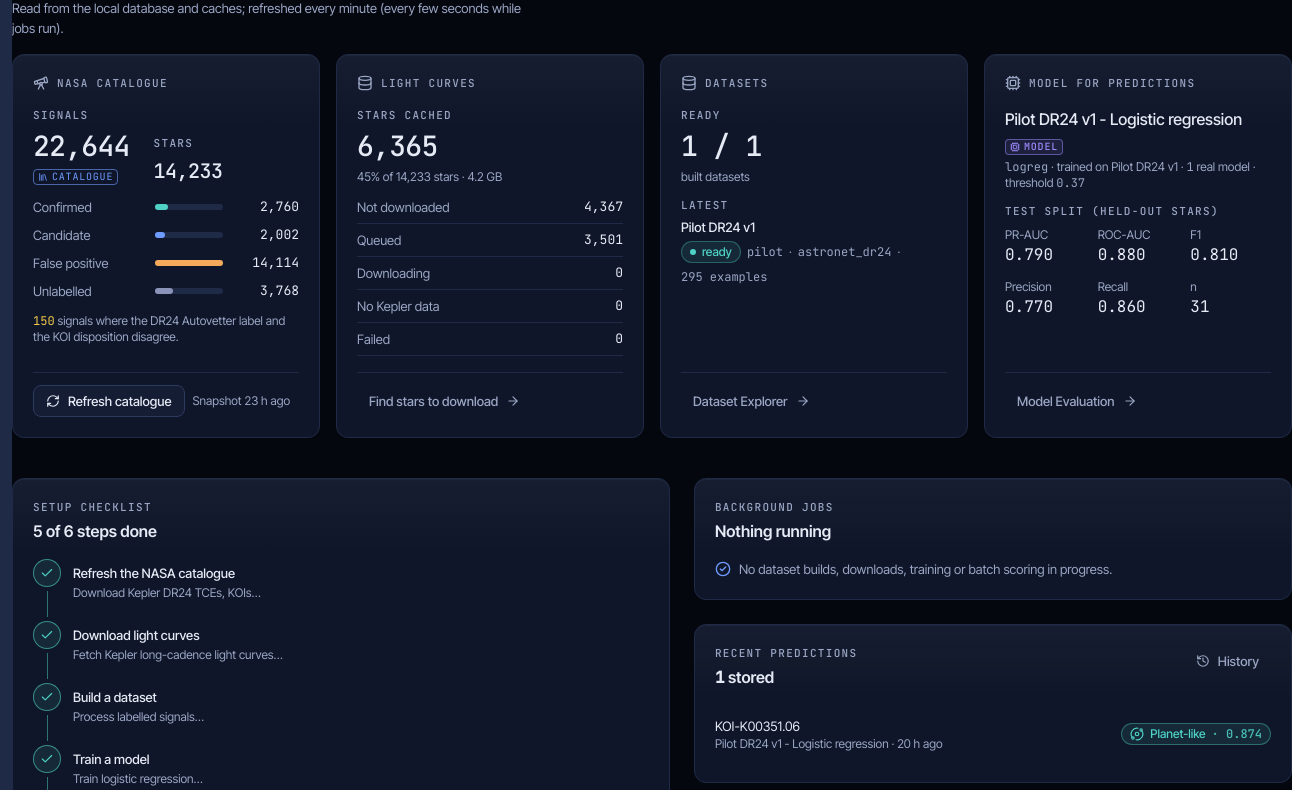
Test: Overview › starts a catalogue refresh and follows the job until it finishes
(page scrolled)
Step 1. Click the button "Refresh catalogue" → (109, 400), box [33,384,184,416]
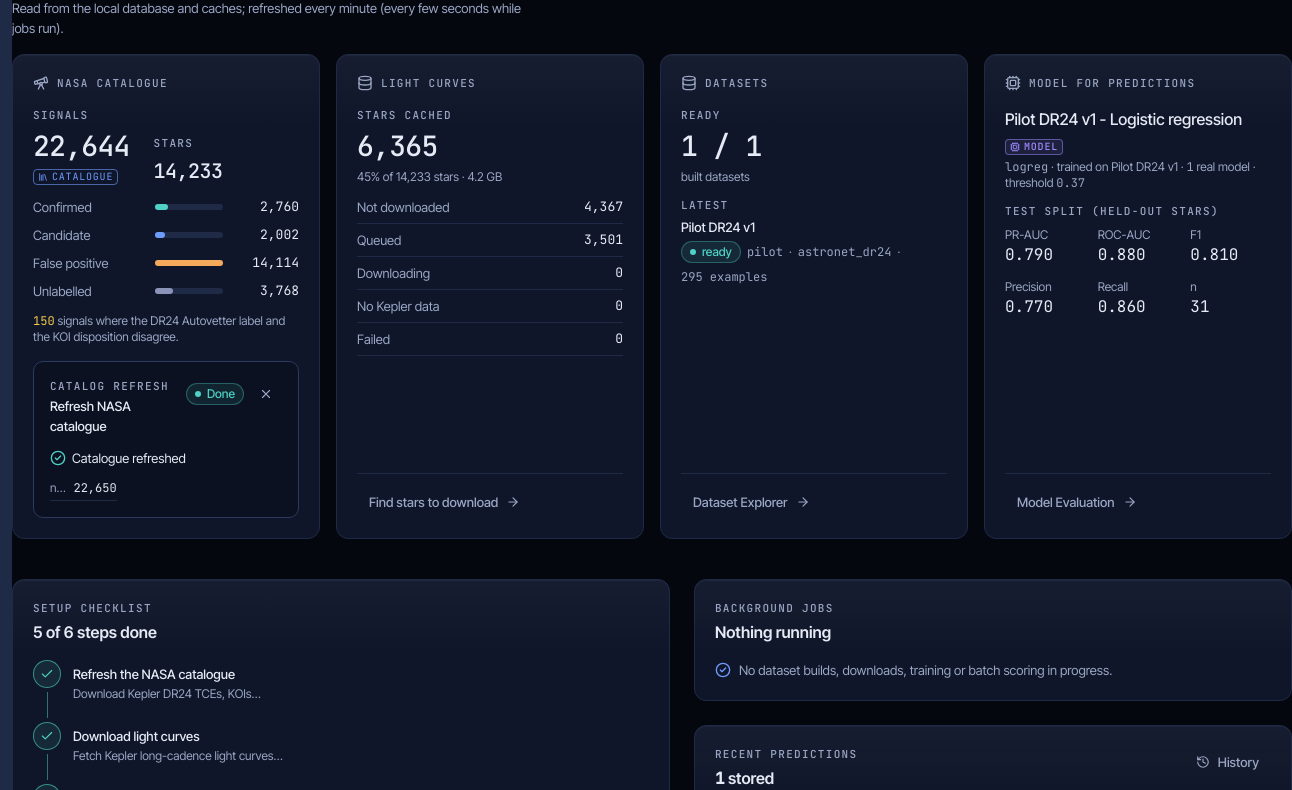
expect the element named "Job: Refresh NASA catalogue" is shown: met, box [33,360,299,518]
expect the text "Catalogue refreshed" is shown: met, box [50,450,186,466]
expect the text "22,650" is shown: met, box [74,480,117,496]
